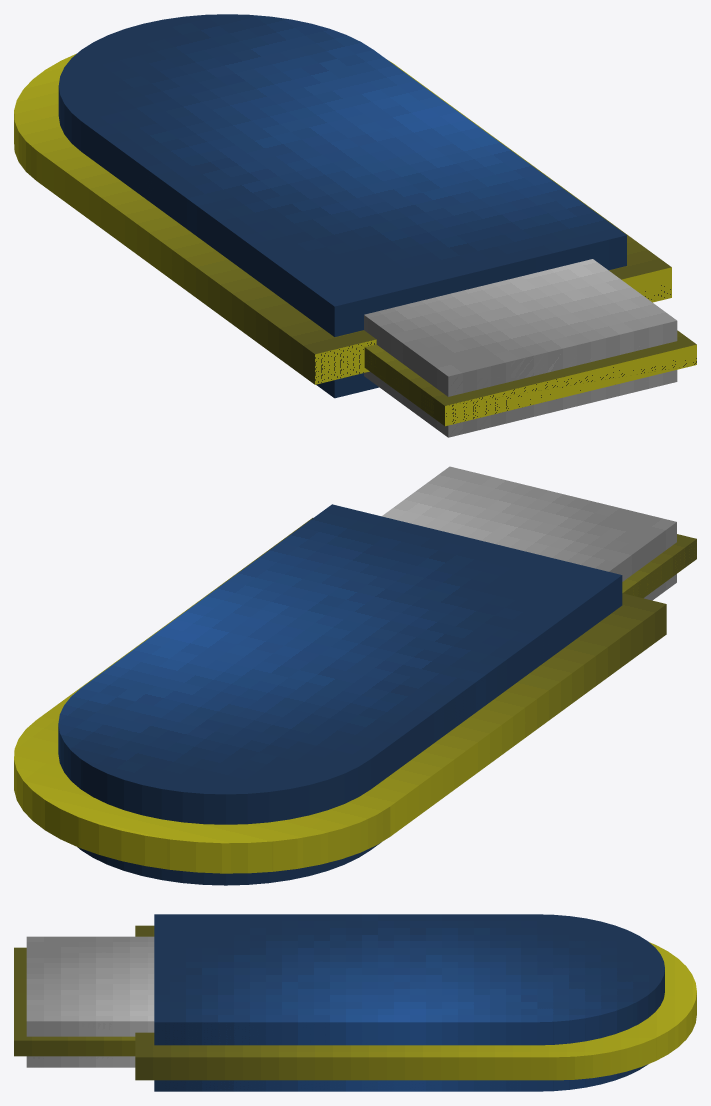
File: USBDrive.obj
The picture shows the model from 3 angles, top to bottom: view 1: azimuth 30°, elevation 25°; view 2: azimuth 150°, elevation 25°; view 3: azimuth 270°, elevation 25°; orthographic projection. The views are drawn at different scales.
Parts seen in each view (by area): view 1: USBDrive; view 2: USBDrive; view 3: USBDrive.
Part boxes in pixels (left/top/right/bottom): USBDrive: left=14, top=14, right=696, bottom=437; USBDrive: left=14, top=466, right=696, bottom=885; USBDrive: left=14, top=914, right=696, bottom=1091.
Size of the model in its own units: 2.44 by 0.6 by 5.35.
